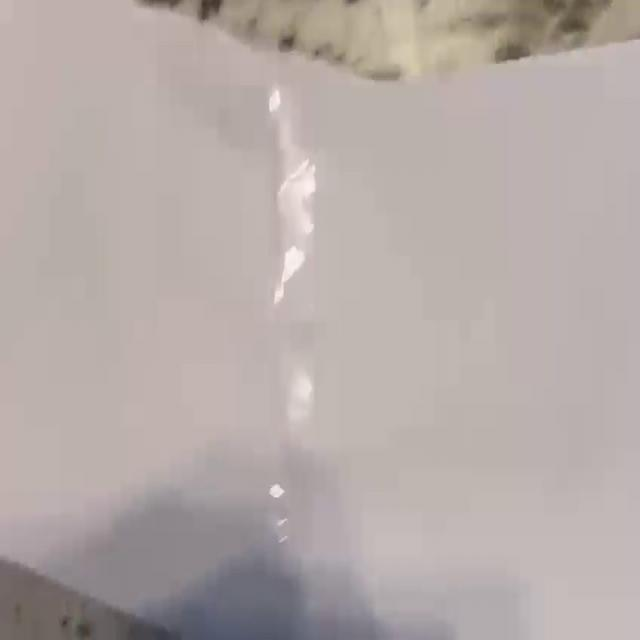road: (0, 1, 640, 638)
